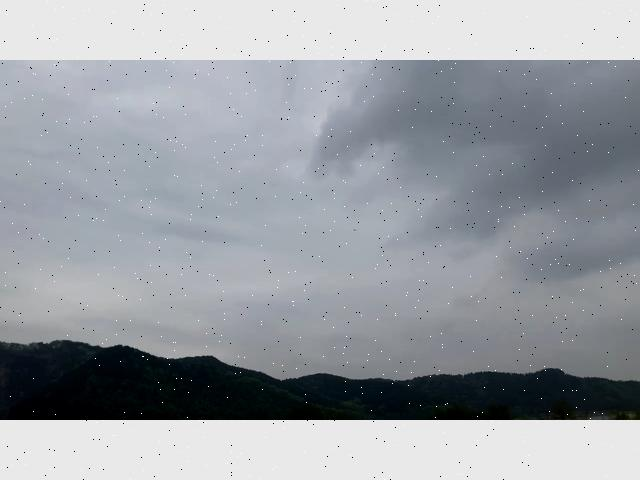Anti-Drone: (347, 223, 365, 233)
